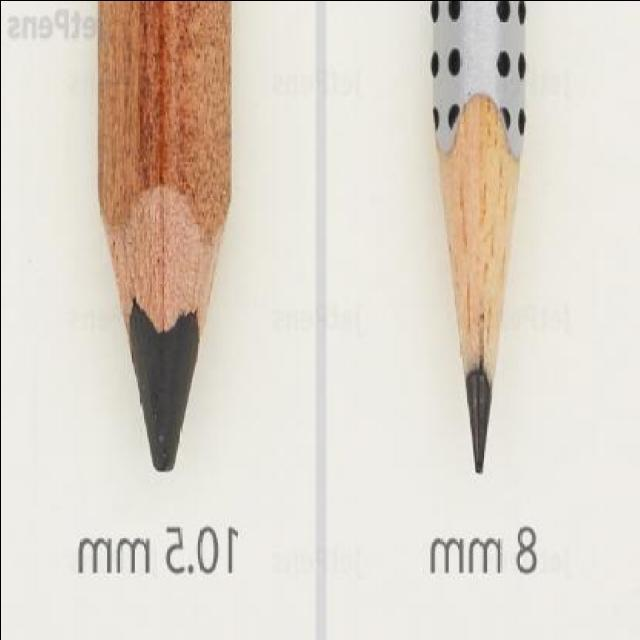pencil: (76, 102, 244, 496), (423, 56, 529, 487)
